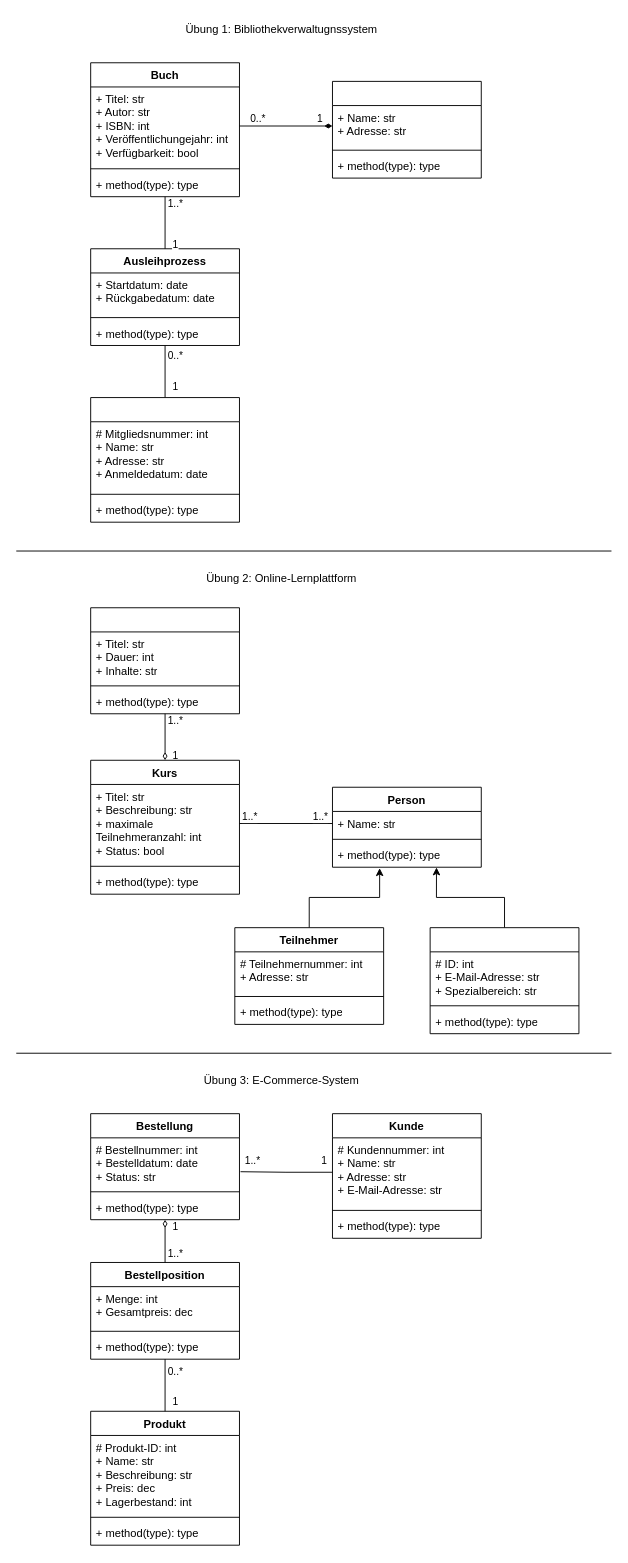
This 628x1563 diagram has some shape labels left out. Each missing label, with the box of its shape:
Bibliothek: (332, 80, 481, 178)
Lehrer: (429, 927, 579, 1034)
Lektion: (90, 607, 239, 714)
Mitglieder: (90, 397, 239, 522)
